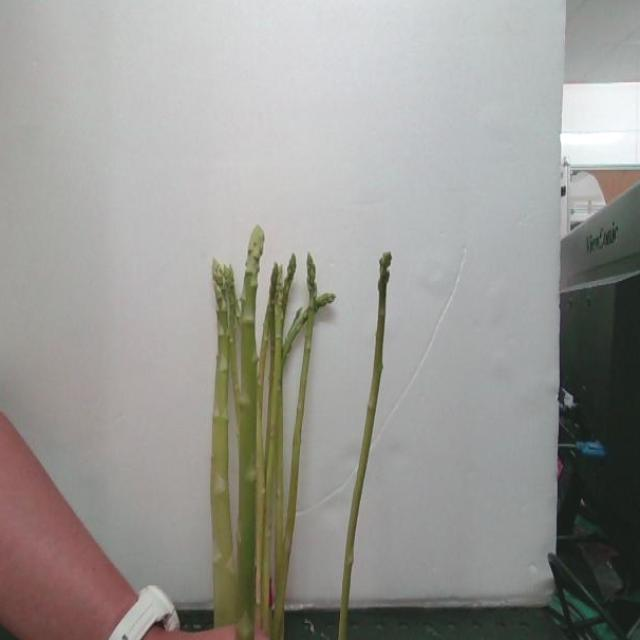aspargus: (337, 254, 393, 640), (274, 251, 322, 640), (234, 226, 263, 640)
